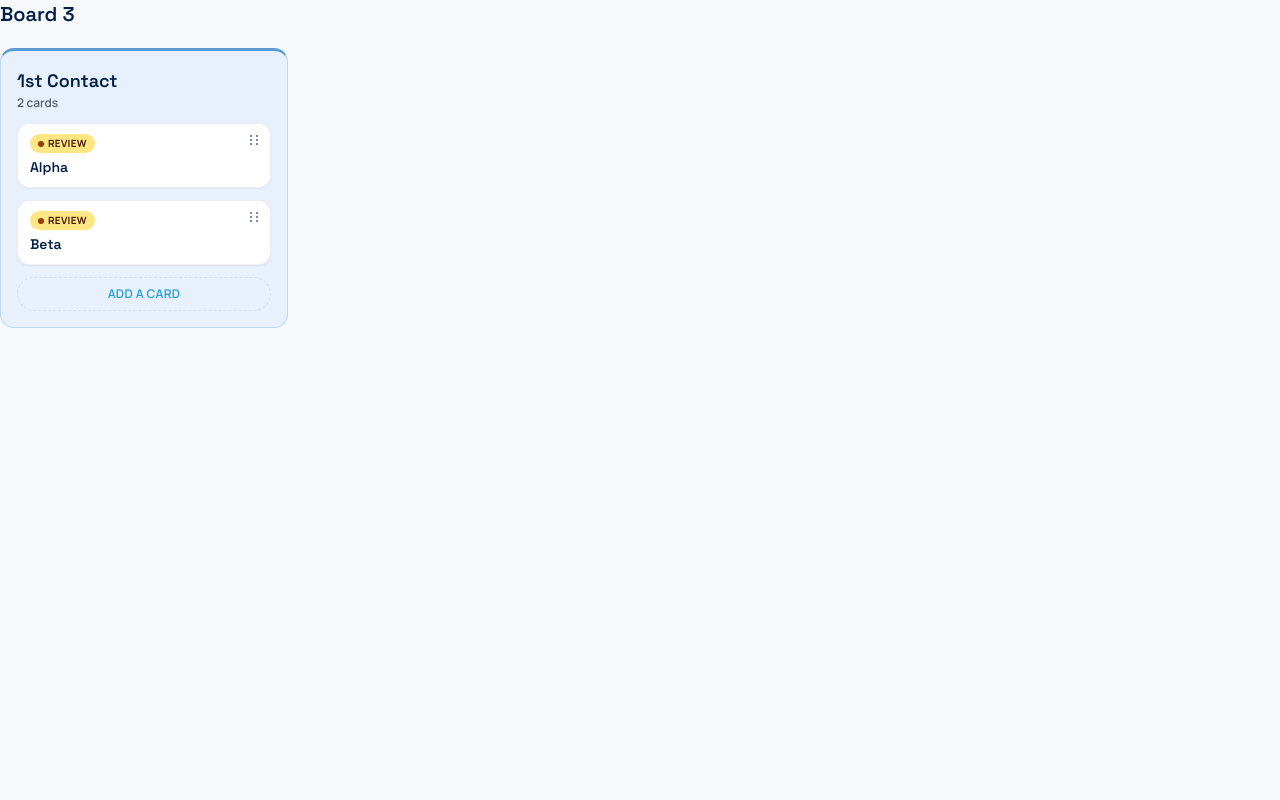
Scenario: central card reviews: markers on the cards and a dialog per obligation › clears only the opened obligation: the marker goes after the backend confirms, the other card's stays
The image size is (1280, 800).
Click the button with test id "review-marker-11" at (62, 144), box [30,134,95,153]
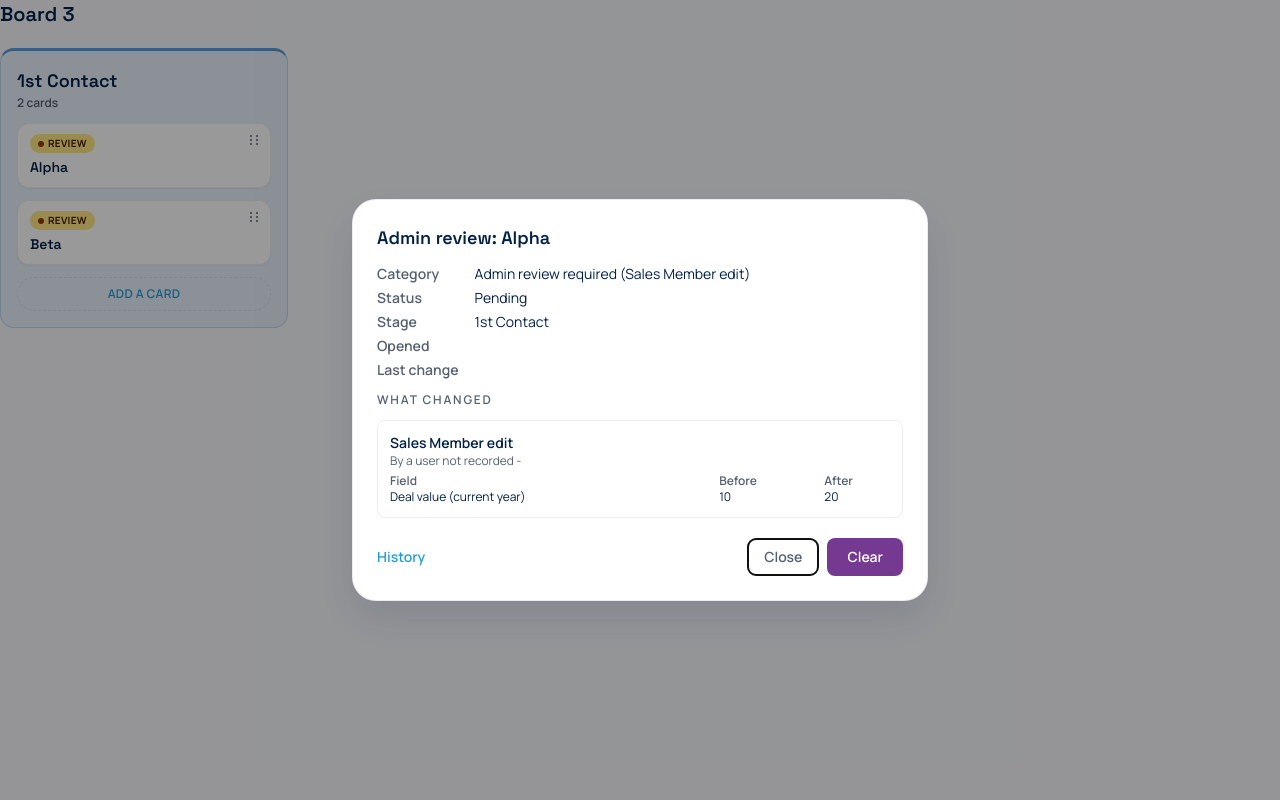
Click the button "Clear" at (865, 557), box [828,538,903,576]
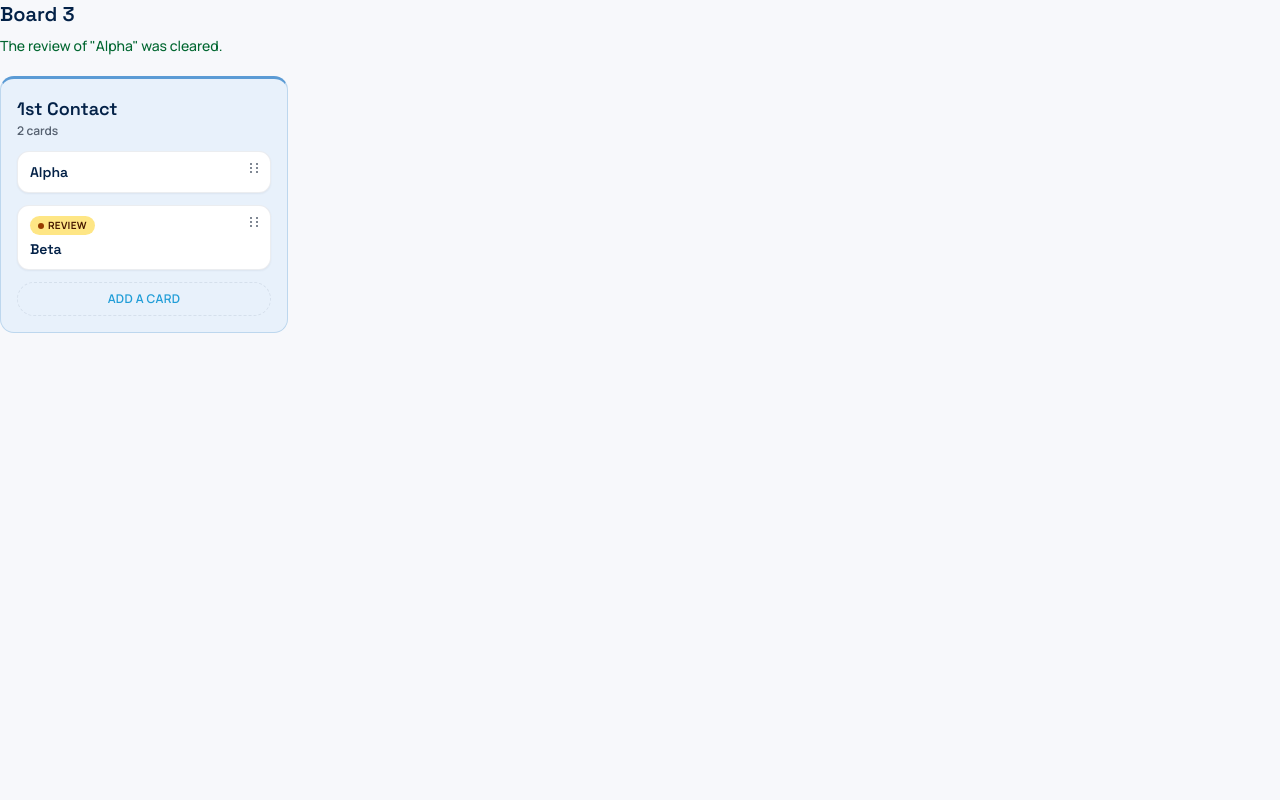
Expected: the message with test id "review-notice" reads "The review of \"Alpha\" was cleared.", [0,36,222,55]
Expected: the button with test id "review-marker-11" is gone
Expected: the dialog is gone
